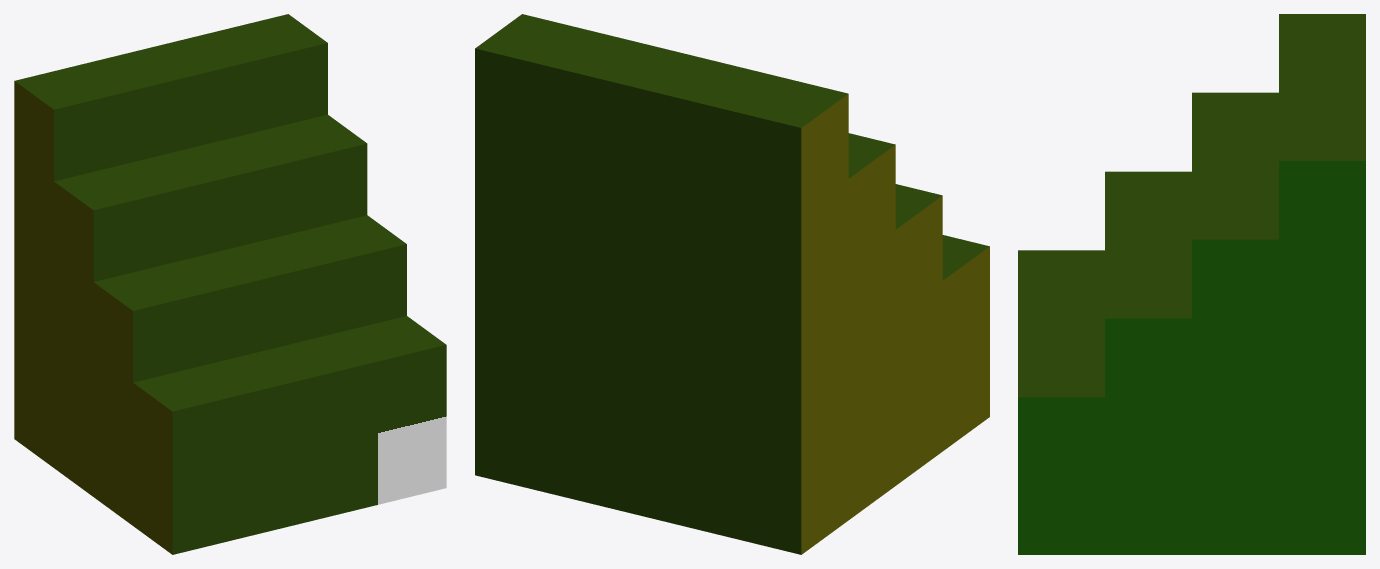
File: block_12.fbx
The picture shows the model from 3 angles, left to right: view 1: azimuth 30°, elevation 25°; view 2: azimuth 150°, elevation 25°; view 3: azimuth 270°, elevation 25°; orthographic projection. The views are drawn at different scales.
Parts seen in each view (by area): view 1: Box; view 2: Box; view 3: Box.
Part boxes in pixels (left/top/right/bottom): Box: left=14, top=14, right=446, bottom=554; Box: left=475, top=14, right=989, bottom=554; Box: left=1018, top=14, right=1365, bottom=554.
Bounding box in the file's own units: 4 × 4 × 5.
Materials: 1 (1 with a texture image).
